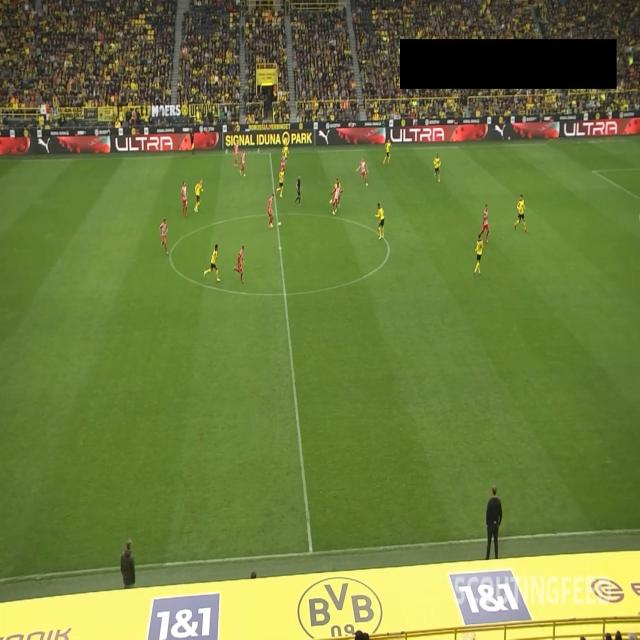ball: (278, 221, 282, 227)
